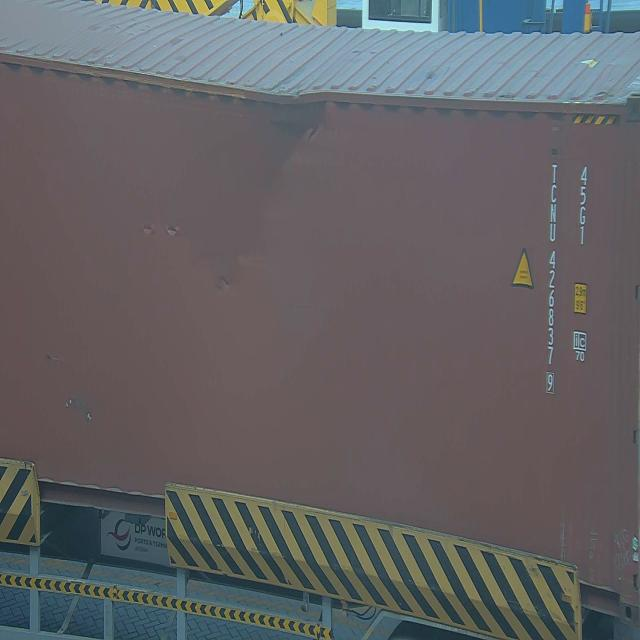dent: (232, 48, 353, 205)
